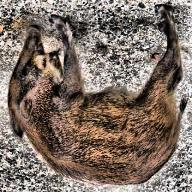boar: (3, 9, 187, 183)
